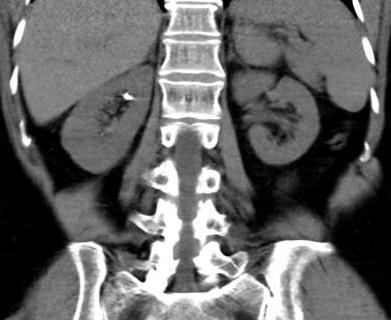Tas_Var: (122, 91, 134, 101)
